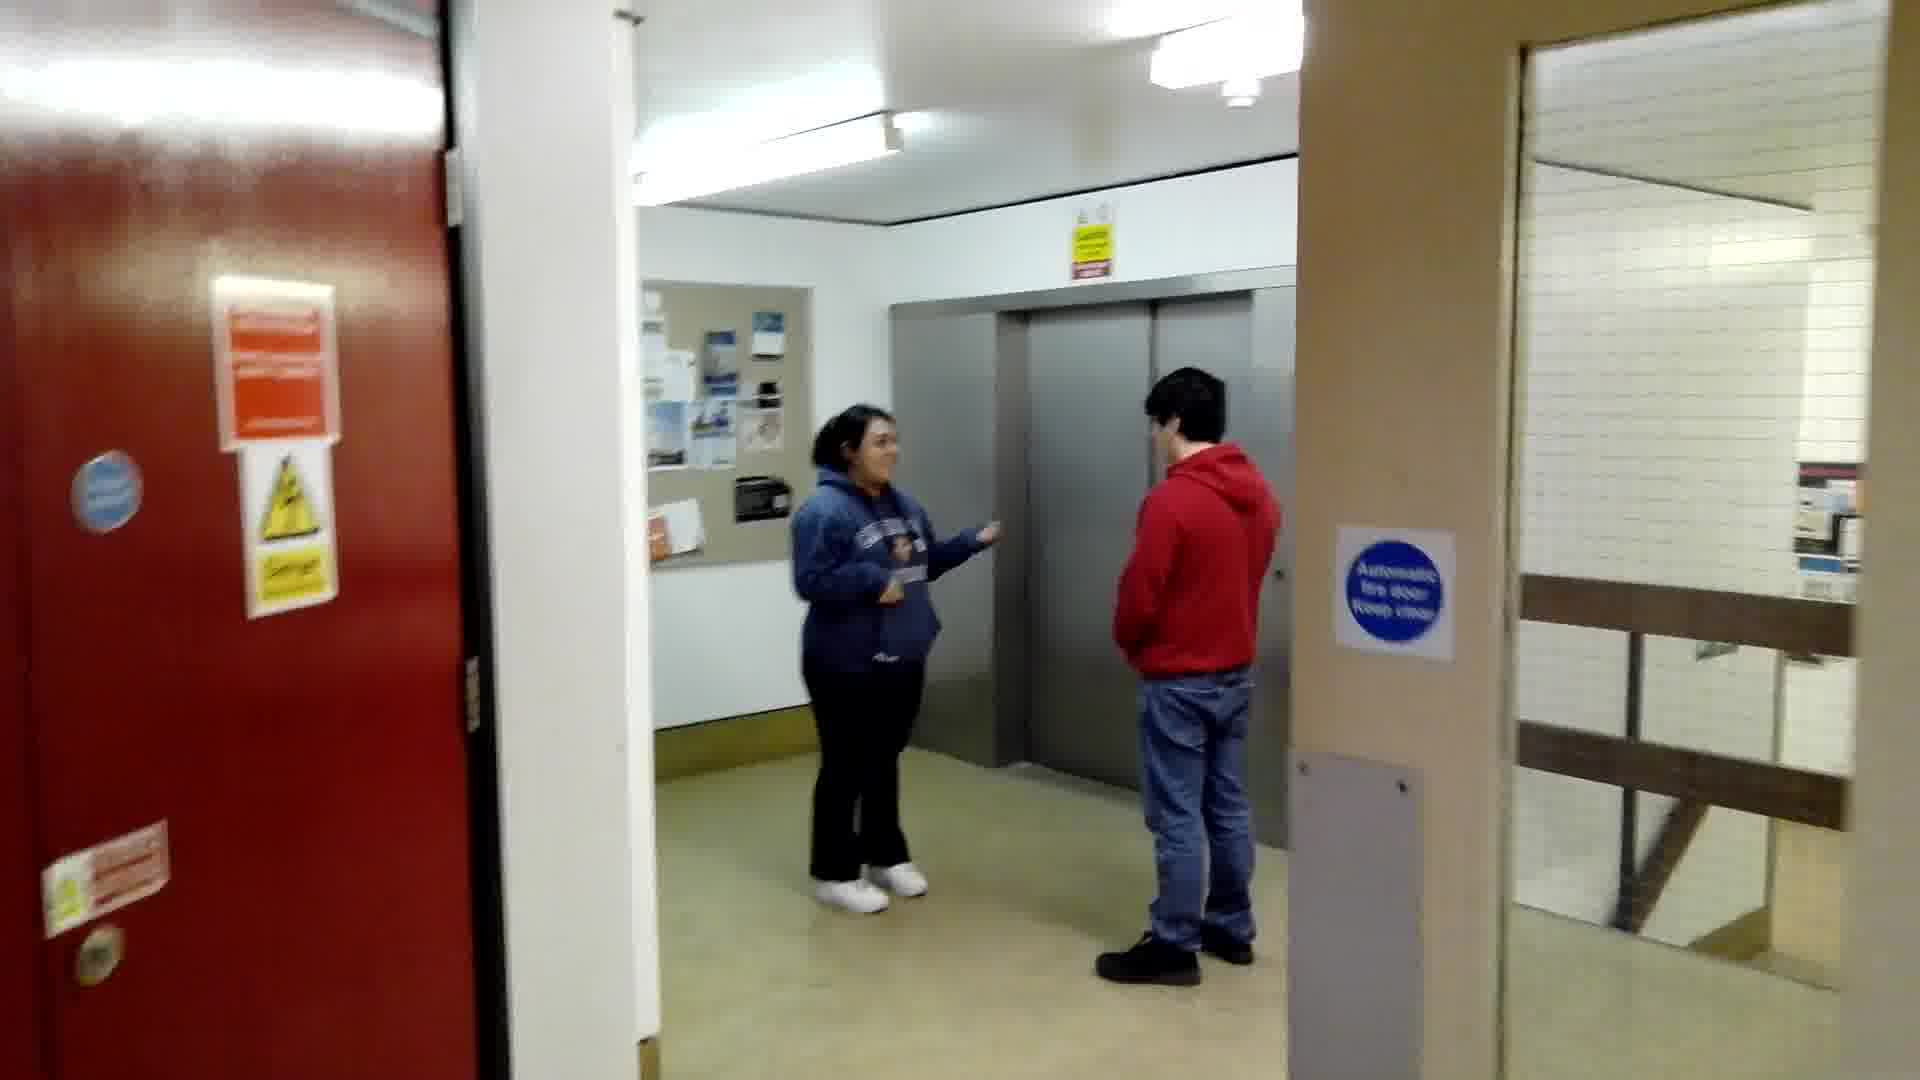Person: (778, 398, 1006, 933), (1101, 354, 1266, 1007)
